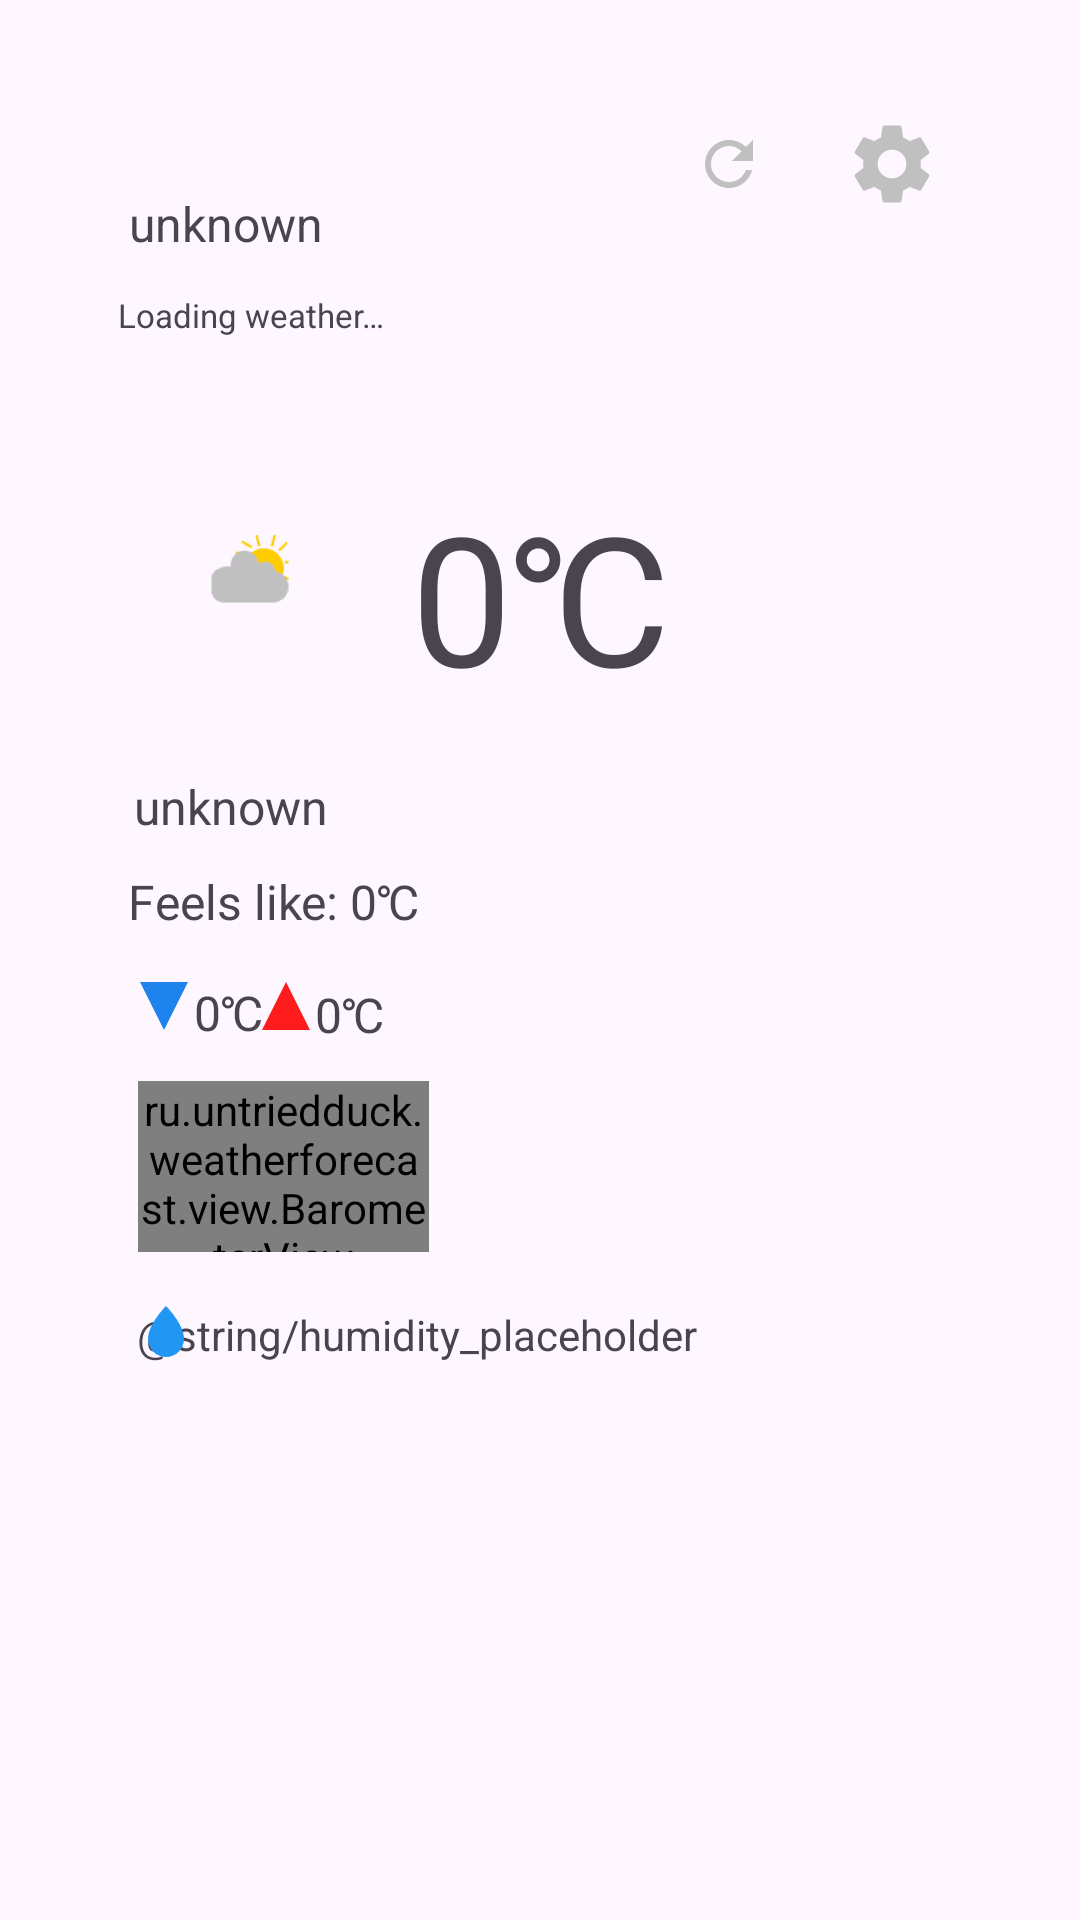

Icon click points for this 1080×1920 phone screenshot, format point (x, y):
refresh: point (729, 164)
settings: point (892, 164)
